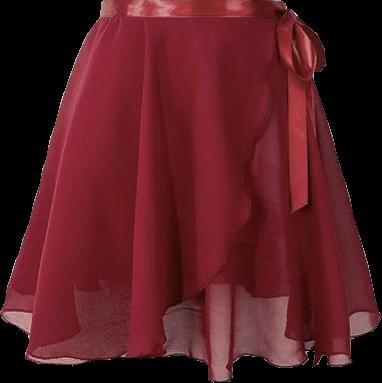Hemline: (0, 313, 381, 382)
Waistline: (98, 12, 290, 20), (99, 0, 283, 4)
